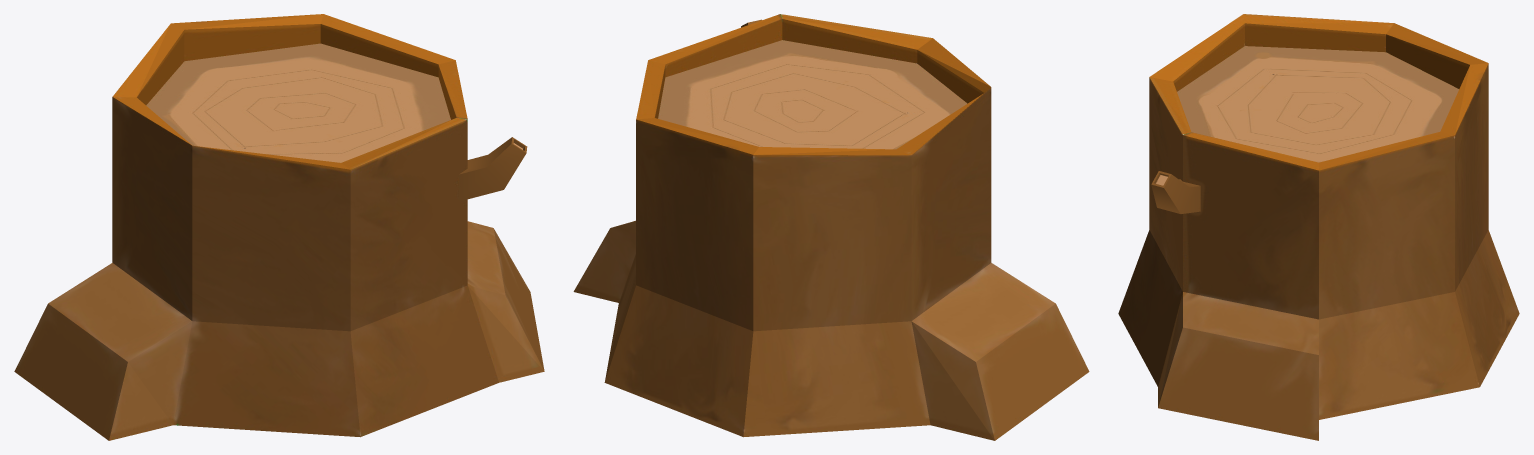
The model's file is Tronco talado.fbx.
3 views of the same model, side by side, from view 1: azimuth 30°, elevation 25°; view 2: azimuth 150°, elevation 25°; view 3: azimuth 270°, elevation 25° (orthographic). The views are drawn at different scales.
Parts seen in each view (by area): view 1: Cylinder001; view 2: Cylinder001; view 3: Cylinder001.
Boxes of the visible parts, <box> form: Cylinder001: <box>14,14,544,440</box>; Cylinder001: <box>573,14,1089,440</box>; Cylinder001: <box>1118,14,1519,440</box>.
Size of the model in its own units: 35.53 by 19.46 by 27.9.
